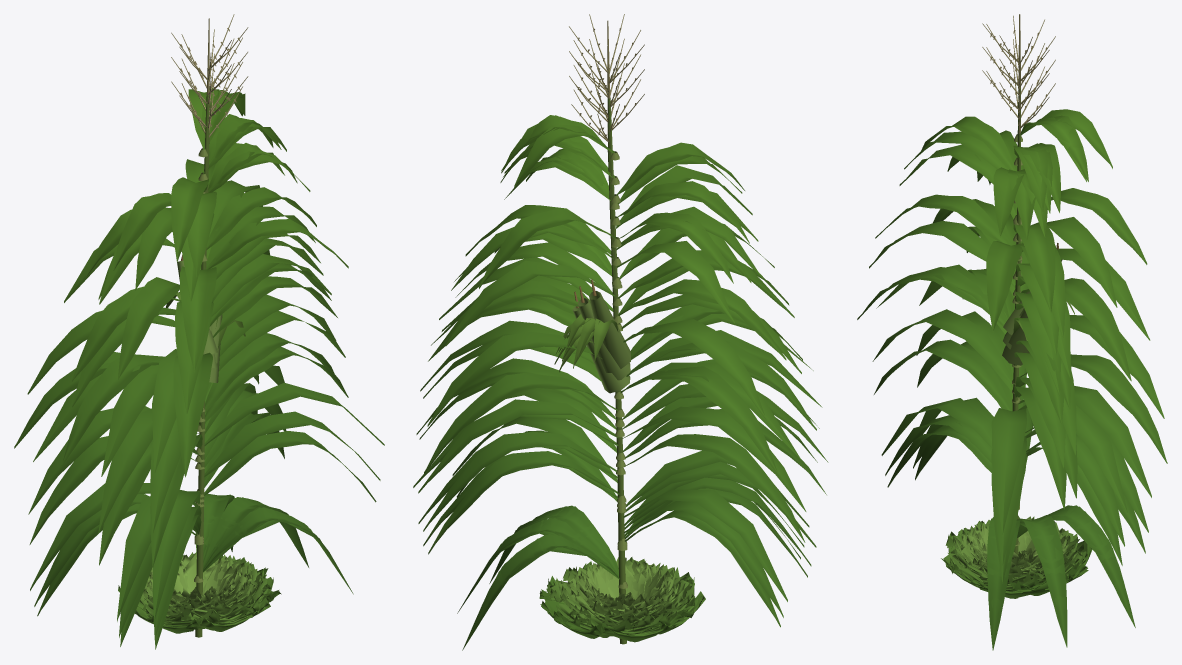
File: crop-prototypes.glb
3 renders of one model, left to right at view 1: azimuth 30°, elevation 25°; view 2: azimuth 150°, elevation 25°; view 3: azimuth 270°, elevation 25°, orthographic. The views are drawn at different scales.
Visible parts, largest first — view 1: corn_1_near, corn_0_near, corn_2_near, corn_1_mid, corn_0_mid, corn_2_mid, corn_0_far, corn_1_far, corn_2_far, lettuce_0_near, lettuce_1_near, lettuce_2_near (+5 smaller); view 2: corn_2_near, corn_0_near, corn_1_near, corn_0_mid, corn_2_mid, corn_2_far, corn_1_mid, corn_0_far, corn_1_far, lettuce_1_near, lettuce_0_near, lettuce_2_near (+3 smaller); view 3: corn_2_near, corn_2_mid, corn_1_near, corn_0_near, corn_2_far, corn_1_mid, corn_0_mid, corn_0_far, corn_1_far, lettuce_1_near, lettuce_0_near, lettuce_2_near (+3 smaller).
Boxes of the visible parts, bbox=[...] form: corn_1_near: bbox=[61, 38, 334, 646]; corn_0_near: bbox=[14, 63, 376, 616]; corn_2_near: bbox=[150, 14, 270, 649]; corn_1_mid: bbox=[72, 118, 336, 637]; corn_0_mid: bbox=[27, 150, 380, 606]; corn_2_mid: bbox=[150, 89, 262, 639]; corn_0_far: bbox=[30, 143, 384, 592]; corn_1_far: bbox=[99, 118, 323, 621]; corn_2_far: bbox=[152, 90, 259, 623]; lettuce_0_near: bbox=[145, 555, 281, 631]; lettuce_1_near: bbox=[118, 553, 273, 629]; lettuce_2_near: bbox=[135, 552, 274, 633]; corn_2_near: bbox=[424, 14, 817, 650]; corn_0_near: bbox=[419, 63, 805, 627]; corn_1_near: bbox=[416, 38, 826, 606]; corn_0_mid: bbox=[423, 148, 806, 617]; corn_2_mid: bbox=[423, 125, 819, 647]; corn_2_far: bbox=[418, 115, 813, 648]; corn_1_mid: bbox=[418, 136, 828, 611]; corn_0_far: bbox=[441, 154, 800, 601]; corn_1_far: bbox=[413, 141, 822, 613]; lettuce_1_near: bbox=[548, 560, 705, 637]; lettuce_0_near: bbox=[539, 561, 694, 642]; lettuce_2_near: bbox=[541, 557, 694, 638]; corn_2_near: bbox=[857, 14, 1167, 627]; corn_2_mid: bbox=[869, 109, 1164, 626]; corn_1_near: bbox=[915, 38, 1122, 647]; corn_0_near: bbox=[982, 61, 1066, 649]; corn_2_far: bbox=[876, 116, 1151, 571]; corn_1_mid: bbox=[913, 143, 1124, 647]; corn_0_mid: bbox=[987, 167, 1065, 648]; corn_0_far: bbox=[987, 173, 1061, 577]; corn_1_far: bbox=[915, 146, 1127, 574]; lettuce_1_near: bbox=[941, 518, 1087, 595]; lettuce_0_near: bbox=[948, 516, 1087, 598]; lettuce_2_near: bbox=[949, 519, 1092, 591].
Bounding box in the file's own units: 1.37 × 2.26 × 1.08.
